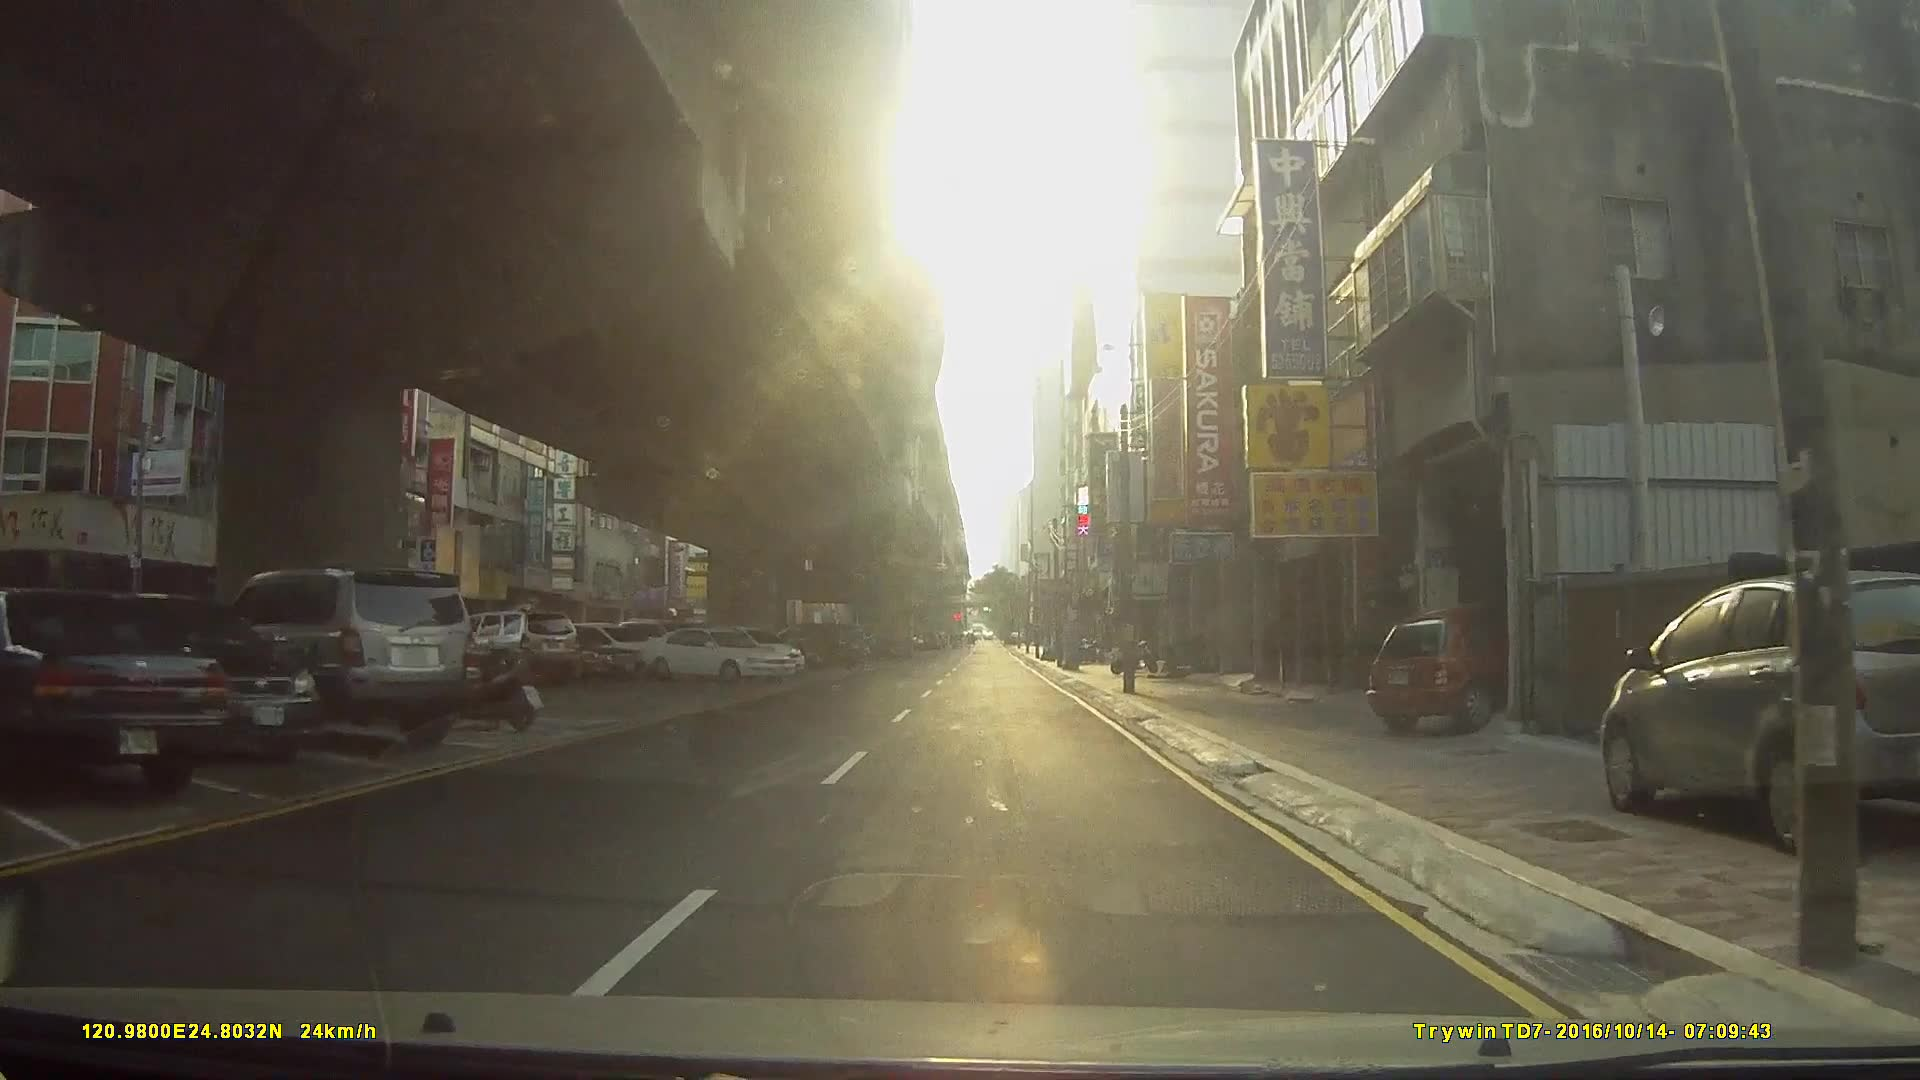vehicle: (1600, 567, 1920, 851), (194, 564, 477, 753), (0, 584, 231, 793), (50, 589, 320, 764), (1367, 601, 1544, 731), (481, 622, 640, 684), (636, 622, 796, 683), (447, 608, 579, 680)
